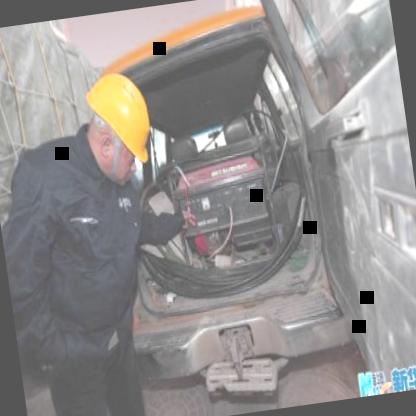helmet: (68, 58, 164, 193)
